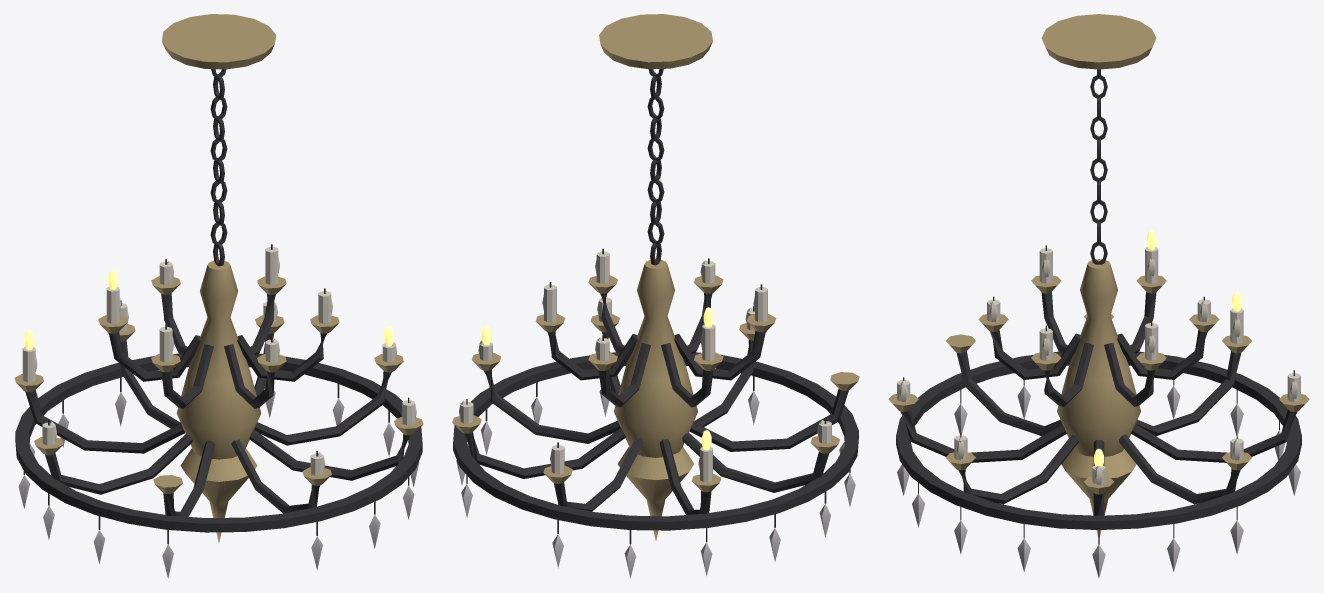
The model's file is chandelier.glb.
The picture shows the model from 3 angles, left to right: view 1: azimuth 30°, elevation 25°; view 2: azimuth 150°, elevation 25°; view 3: azimuth 270°, elevation 25°; orthographic projection.
Parts seen in each view (by area): view 1: Chandelier; view 2: Chandelier; view 3: Chandelier.
Boxes of the visible parts, x1,y1,x2,y2 form: Chandelier: (14, 14, 423, 578); Chandelier: (452, 14, 859, 578); Chandelier: (888, 14, 1309, 577).
Size of the model in its own units: 2.2 by 2.9 by 2.2.
